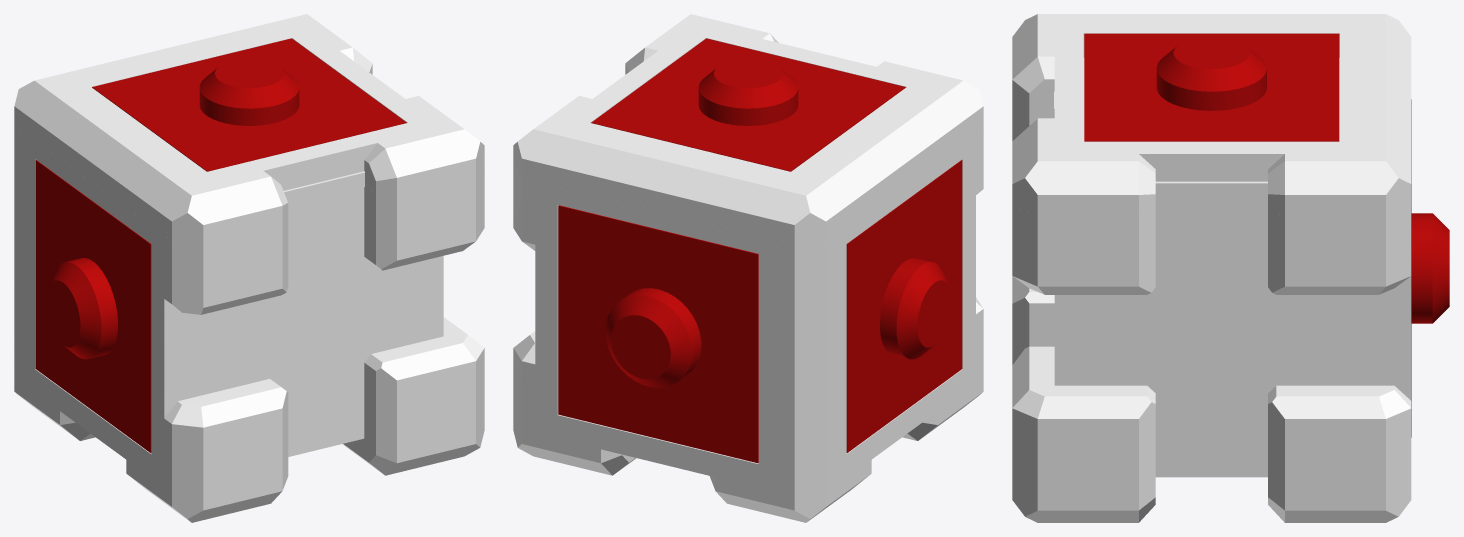
Rendered from custom_cube0.glb.
3 renders of one model, left to right at view 1: azimuth 30°, elevation 25°; view 2: azimuth 150°, elevation 25°; view 3: azimuth 270°, elevation 25°, orthographic. The views are drawn at different scales.
Visible parts, largest first — view 1: Body-1, Cap-1, Tile-3, Tile-2; view 2: Body-1, Cap-1, Tile-1, Tile-3, Tile-2; view 3: Body-1, Cap-1, Tile-2, Tile-1.
Boxes of the visible parts, bbox=[...] form: Body-1: bbox=[14, 126, 484, 522]; Cap-1: bbox=[14, 14, 484, 244]; Tile-3: bbox=[35, 160, 151, 452]; Tile-2: bbox=[92, 38, 406, 171]; Body-1: bbox=[513, 126, 983, 522]; Cap-1: bbox=[513, 14, 983, 244]; Tile-1: bbox=[558, 205, 758, 463]; Tile-3: bbox=[846, 160, 962, 452]; Tile-2: bbox=[591, 38, 905, 171]; Body-1: bbox=[1012, 91, 1411, 522]; Cap-1: bbox=[1012, 14, 1411, 216]; Tile-2: bbox=[1084, 33, 1339, 141]; Tile-1: bbox=[1411, 99, 1449, 437].
Bounding box in the file's own units: 2.57 × 2.57 × 2.57.
